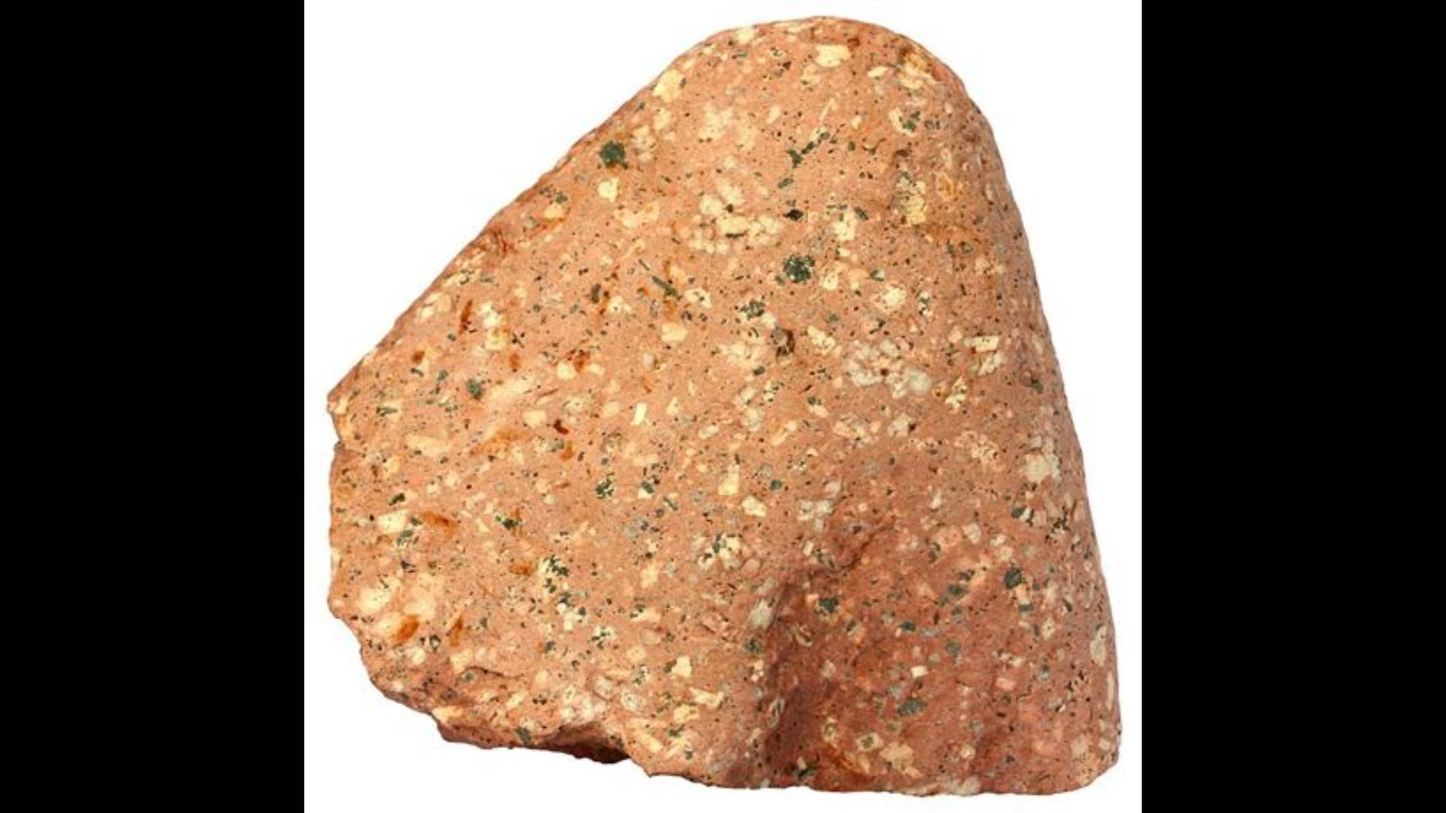rock: (331, 19, 1114, 788)
